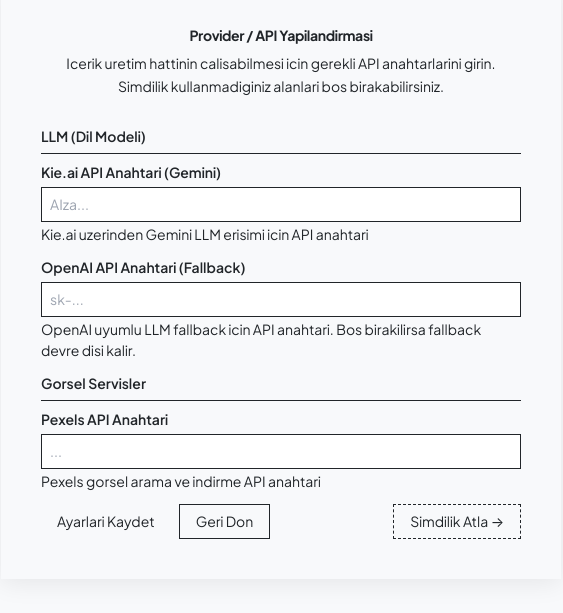
OnboardingProviderSetupScreen › shows validation error when submitting with all empty fields
Click the button "Ayarlari Kaydet" at (106, 521), box left=41, top=504, right=171, bottom=539
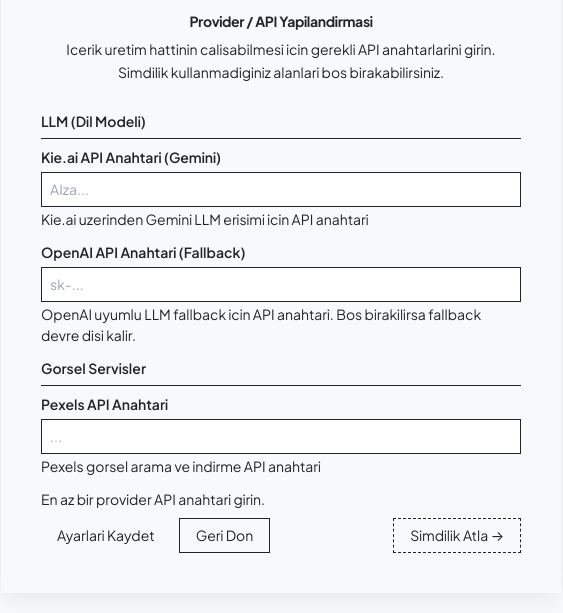
Expected: the text "En az bir provider API anahtari girin." is shown, left=41, top=490, right=265, bottom=508
